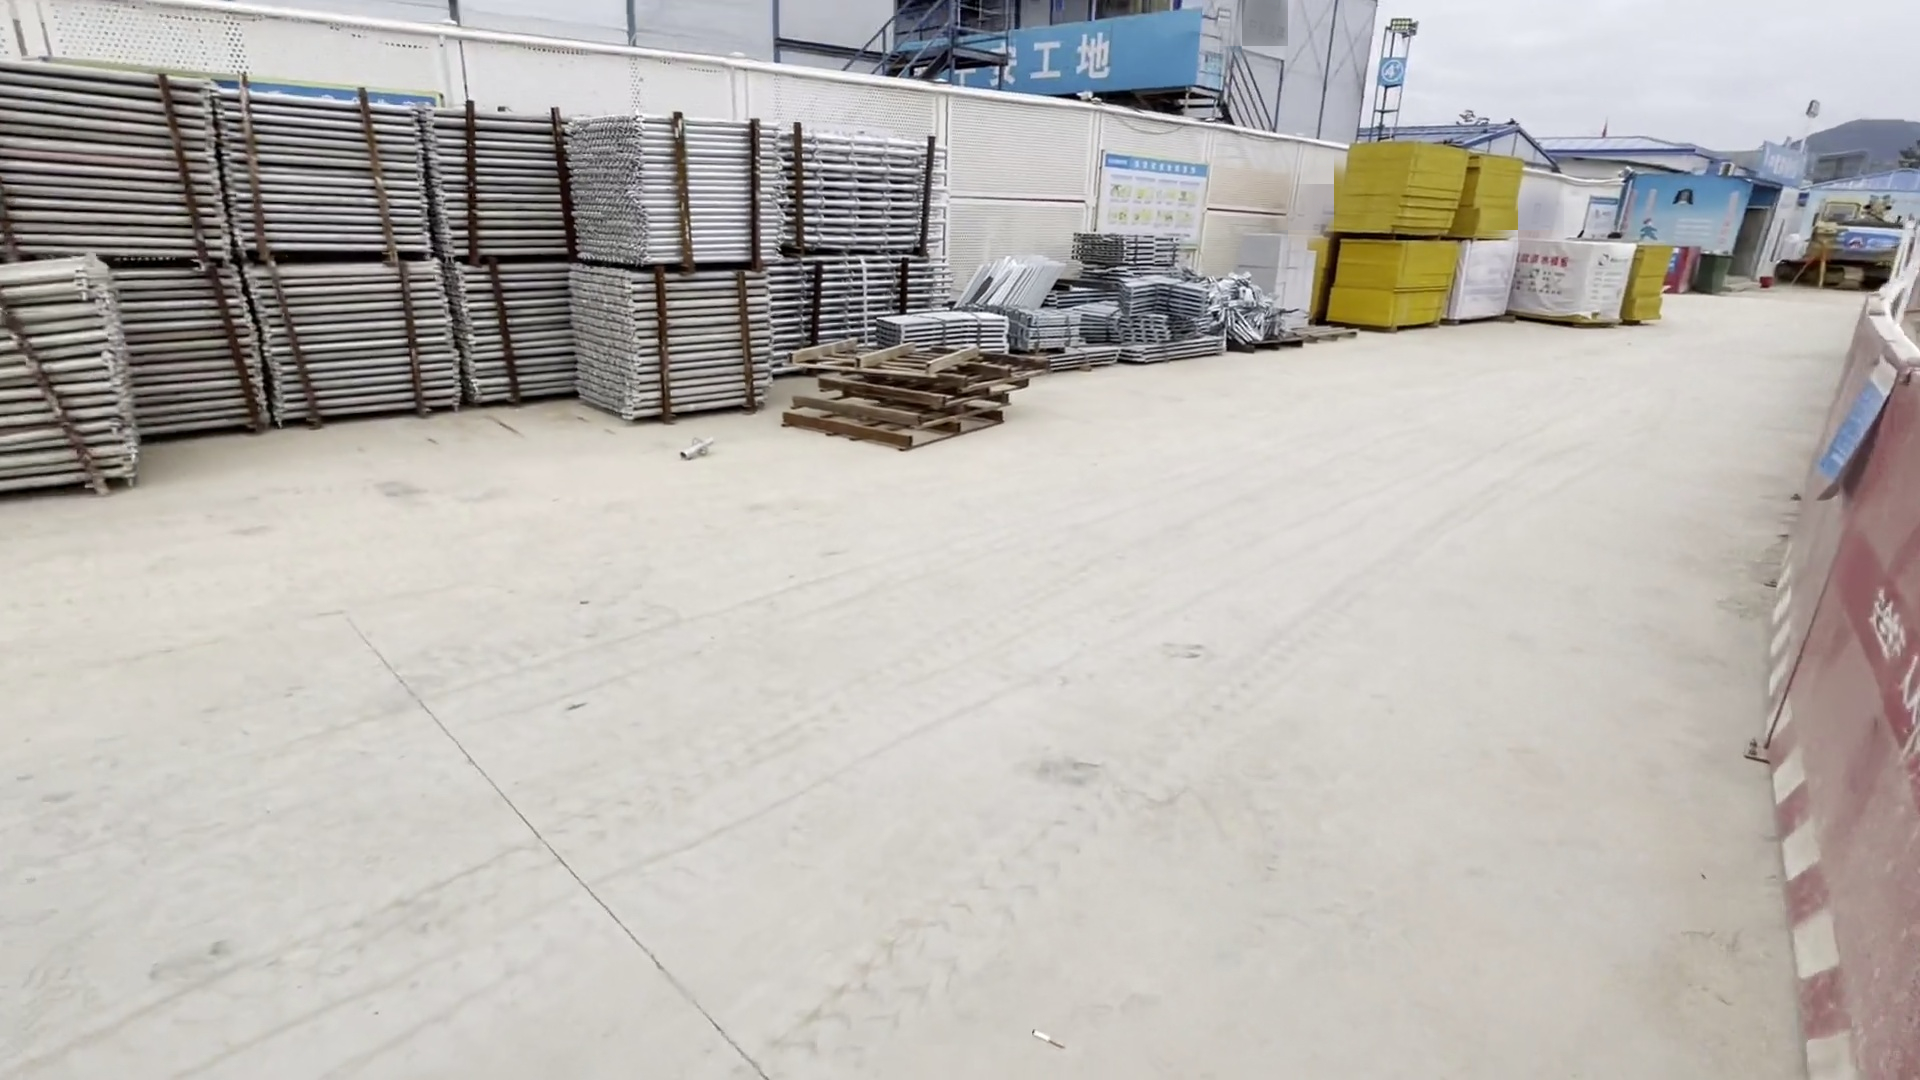board: (1323, 142, 1466, 340)
scaffold: (1, 67, 956, 514), (942, 227, 1282, 392)
